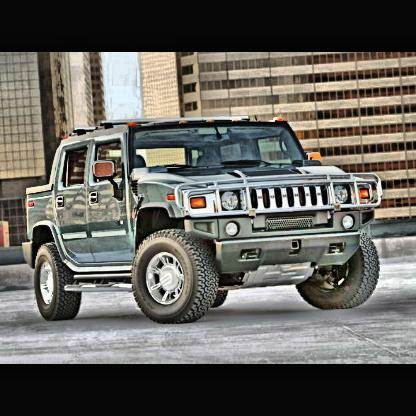HUMMER H2 SUT Crew Cab 2009: (23, 117, 385, 325)
